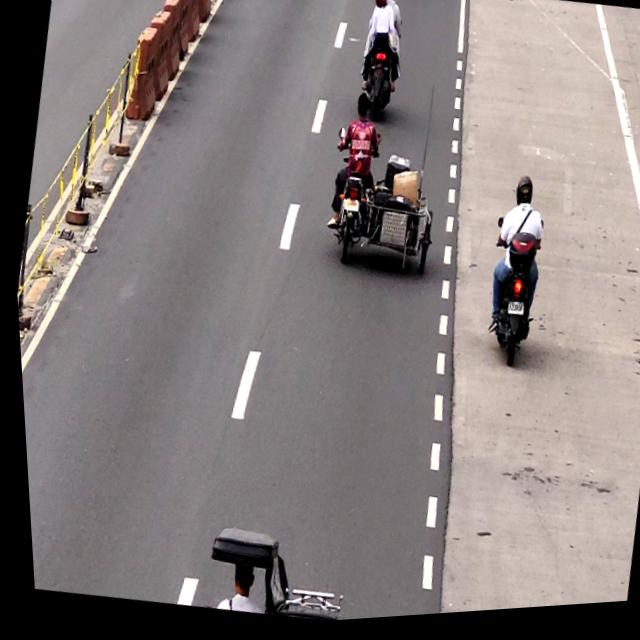License-Plate: (502, 302, 524, 324)
Motorcycle: (469, 178, 555, 380), (348, 0, 413, 118)
Tricycle: (311, 99, 448, 284)
